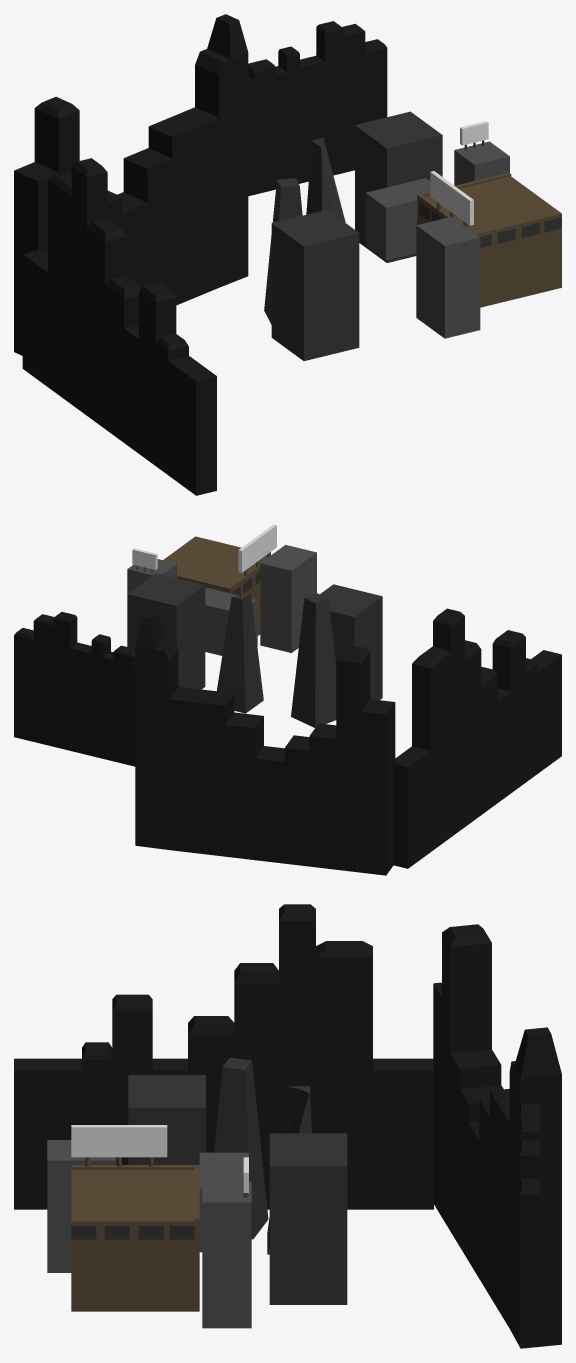
Rendered from AssassinScene.glb.
3 views of the same model, one above another, from view 1: azimuth 30°, elevation 25°; view 2: azimuth 150°, elevation 25°; view 3: azimuth 270°, elevation 25° (orthographic). The views are drawn at different scales.
Parts seen in each view (by area): view 1: Row4, BackBuilding7, Building, BackBuilding4, BackBuilding2, BackBuilding3, BackBuilding6, BackBuilding1, BackBuilding5, BillBoard, BillBoard.001; view 2: Row4, BackBuilding2, BackBuilding4, BackBuilding5, BackBuilding7, Building, BackBuilding6, BackBuilding3, BillBoard, BackBuilding1, BillBoard.001; view 3: Row4, Building, BackBuilding2, BackBuilding1, BackBuilding7, BackBuilding5, BackBuilding4, BillBoard, BackBuilding3, BackBuilding6.
Part boxes in pixels (box(x1,y1,x2,y2)): Row4: box(14, 14, 387, 495); BackBuilding7: box(271, 209, 359, 360); Building: box(417, 172, 561, 307); BackBuilding4: box(416, 216, 480, 338); BackBuilding2: box(355, 111, 442, 262); BackBuilding3: box(365, 178, 430, 260); BackBuilding6: box(306, 137, 345, 222); BackBuilding1: box(454, 141, 509, 185); BackBuilding5: box(264, 178, 302, 324); BillBoard: box(430, 171, 473, 227); BillBoard.001: box(460, 121, 488, 150); Row4: box(14, 608, 561, 875); BackBuilding2: box(127, 573, 205, 689); BackBuilding4: box(260, 545, 316, 652); BackBuilding5: box(291, 593, 336, 727); BackBuilding7: box(320, 584, 382, 700); Building: box(163, 536, 267, 635); BackBuilding6: box(217, 593, 263, 713); BackBuilding3: box(205, 587, 257, 655); BillBoard: box(238, 524, 276, 575); BackBuilding1: box(127, 559, 176, 593); BillBoard.001: box(132, 548, 157, 573); Row4: box(14, 904, 561, 1348); Building: box(71, 1165, 199, 1311); BackBuilding2: box(269, 1133, 347, 1304); BackBuilding1: box(202, 1181, 251, 1328); BackBuilding7: box(128, 1075, 205, 1164); BackBuilding5: box(214, 1057, 268, 1239); BackBuilding4: box(47, 1140, 116, 1272); BillBoard: box(71, 1125, 167, 1166); BackBuilding3: box(199, 1152, 248, 1252); BackBuilding6: box(267, 1086, 311, 1254).
Bounding box in the file's own units: 22.62 × 13.94 × 22.17.
